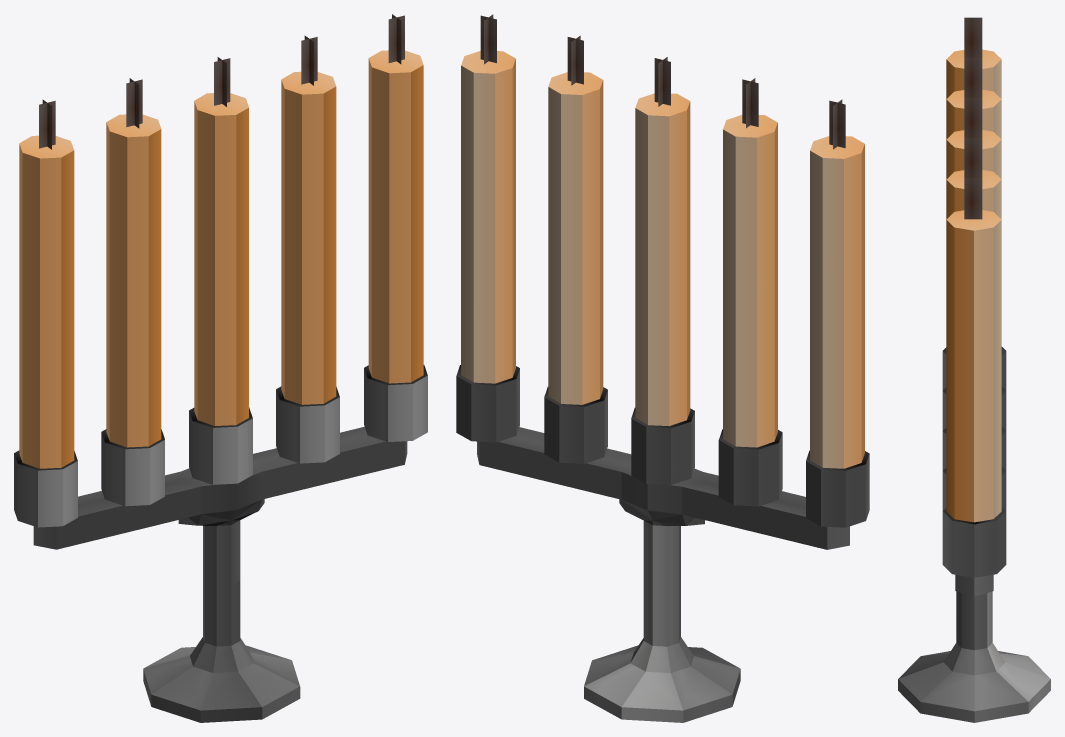
Rendered from candle_336x03.obj.
3 renders of one model, left to right at view 1: azimuth 30°, elevation 25°; view 2: azimuth 150°, elevation 25°; view 3: azimuth 270°, elevation 25°, orthographic. The views are drawn at different scales.
Parts seen in each view (by area): view 1: candle_336x03; view 2: candle_336x03; view 3: candle_336x03.
Boxes of the visible parts, <box> form: candle_336x03: <box>14,14,427,722</box>; candle_336x03: <box>456,14,869,722</box>; candle_336x03: <box>898,17,1050,722</box>.
Size of the model in its own units: 0.6974 by 1.03 by 0.2414.
